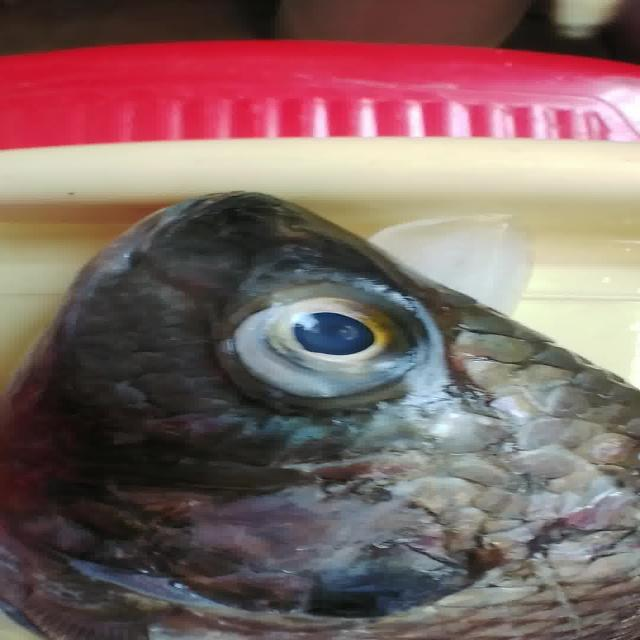Fresh: (174, 274, 468, 422)
